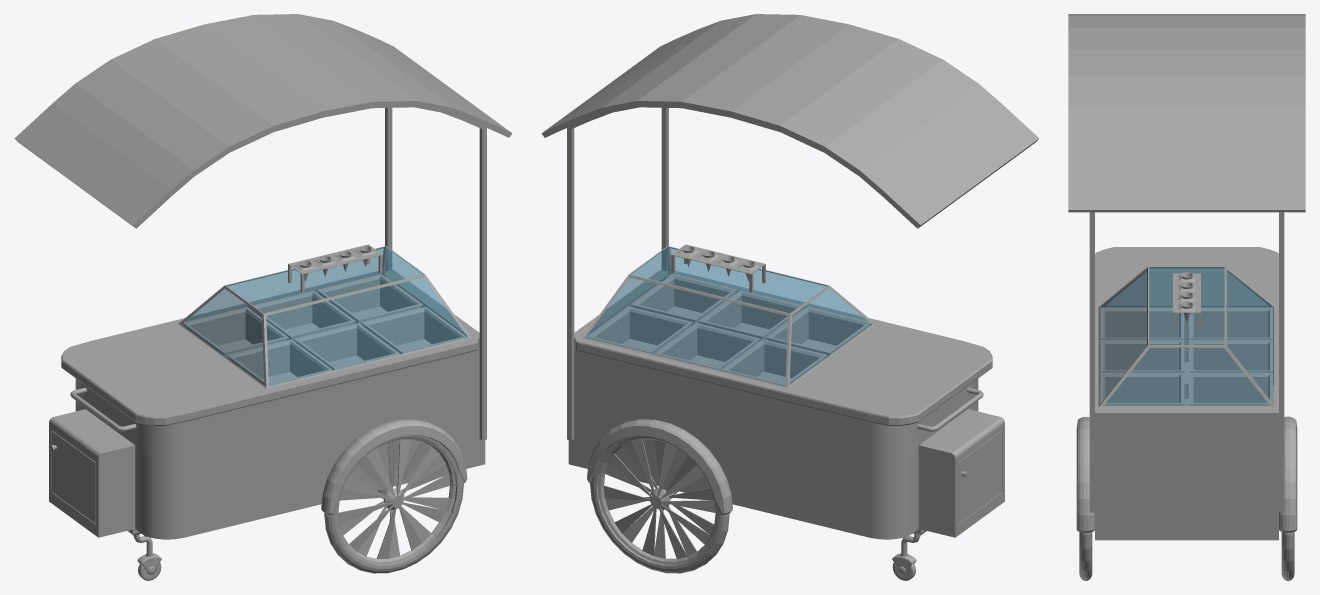
The model's file is Ice Cream UV.fbx.
The picture shows the model from 3 angles, left to right: view 1: azimuth 30°, elevation 25°; view 2: azimuth 150°, elevation 25°; view 3: azimuth 270°, elevation 25°; orthographic projection.
Parts seen in each view (by area): view 1: polySurface9, pCylinder29, pCylinder21, pCube6, pCube11, pCube10, pCube8, pCube7, pCube9, pCube5; view 2: polySurface9, pCylinder29, pCylinder21, pCube9, pCube8, pCube7, pCube11, pCube10, pCube6, pCube5; view 3: polySurface9, pCylinder29, pCylinder21, pCube8, pCube11, pCube9, pCube6, pCube10, pCube7, pCube5.
Boxes of the visible parts, box(x1,y1,x2,y2) form: polySurface9: box(49, 246, 485, 580); pCylinder29: box(14, 14, 512, 440); pCylinder21: box(321, 419, 467, 573); pCube6: box(183, 307, 288, 358); pCube11: box(361, 306, 467, 353); pCube10: box(293, 323, 399, 370); pCube8: box(316, 274, 423, 325); pCube7: box(249, 290, 355, 342); pCube9: box(226, 339, 333, 385); pCube5: box(288, 244, 382, 292); polySurface9: box(568, 246, 1004, 580); pCylinder29: box(541, 14, 1039, 440); pCylinder21: box(587, 419, 732, 573); pCube9: box(765, 306, 870, 358); pCube8: box(586, 306, 693, 353); pCube7: box(654, 323, 760, 369); pCube11: box(631, 274, 737, 325); pCube10: box(698, 290, 805, 341); pCube6: box(721, 339, 827, 385); pCube5: box(671, 244, 765, 292); polySurface9: box(1095, 247, 1278, 540); pCylinder29: box(1068, 14, 1305, 512); pCylinder21: box(1076, 416, 1297, 580); pCube8: box(1189, 372, 1273, 405); pCube11: box(1100, 372, 1184, 405); pCube9: box(1100, 307, 1184, 339); pCube6: box(1189, 307, 1273, 339); pCube10: box(1100, 340, 1184, 372); pCube7: box(1189, 340, 1273, 372); pCube5: box(1173, 273, 1200, 330).
Bounding box in the file's own units: 13.76 × 16.63 × 7.37.
